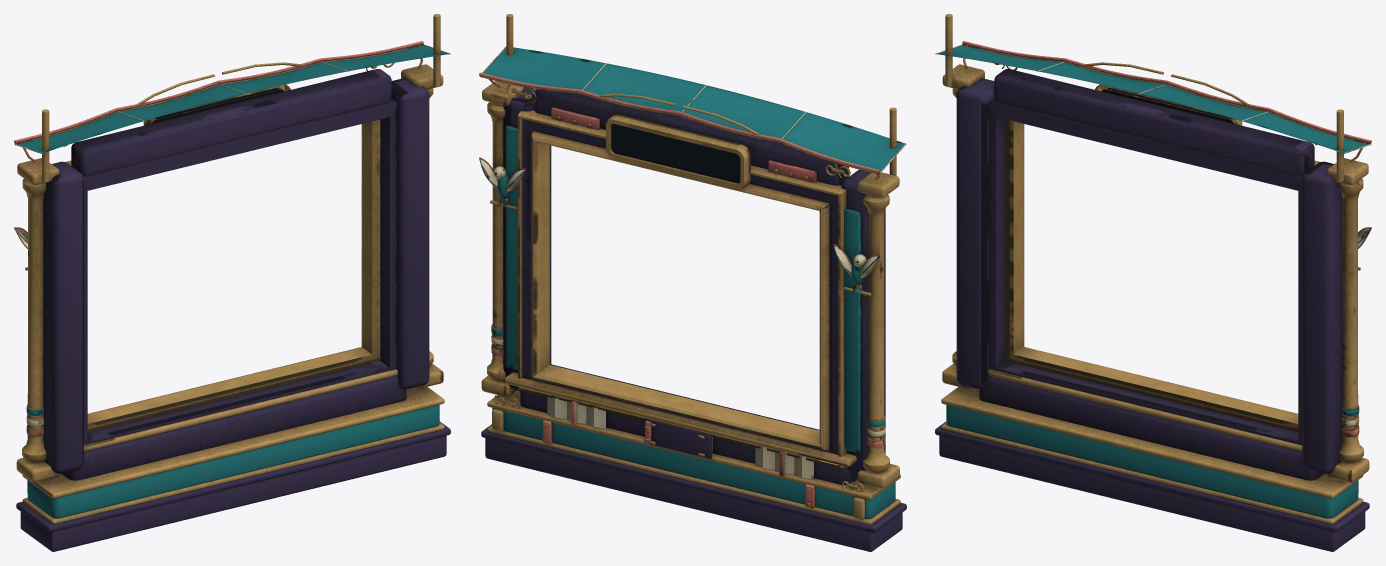
3 views of the same model, side by side, from view 1: azimuth 30°, elevation 25°; view 2: azimuth 150°, elevation 25°; view 3: azimuth 330°, elevation 25° (orthographic). The views are drawn at different scales.
Parts seen in each view (by area): view 1: Violet_lacquer, Field_brass, Teal_woven_canvas, Coral_woven_ribbon, Display_uniform_ink; view 2: Field_brass, Violet_lacquer, Teal_woven_canvas, Coral_woven_ribbon, Display_uniform_ink, Ivory_folded_chart; view 3: Violet_lacquer, Field_brass, Teal_woven_canvas, Coral_woven_ribbon, Display_uniform_ink.
Part boxes in pixels (x1,y1,x2,y2): Violet_lacquer: (16,69,450,551); Field_brass: (14,14,444,524); Teal_woven_canvas: (14,45,448,518); Coral_woven_ribbon: (14,41,423,435); Display_uniform_ink: (152,88,283,123); Field_brass: (479,14,900,524); Violet_lacquer: (481,87,906,551); Teal_woven_canvas: (479,47,905,518); Coral_woven_ribbon: (479,72,885,508); Display_uniform_ink: (495,124,858,262); Ivory_folded_chart: (480,46,906,479); Violet_lacquer: (935,69,1369,551); Field_brass: (941,14,1371,524); Teal_woven_canvas: (937,45,1371,518); Coral_woven_ribbon: (962,41,1371,435); Display_uniform_ink: (1102,88,1233,123).
Size of the model in its own units: 9.9 by 10 by 1.51.
Materials: 6 (6 with a texture image).
